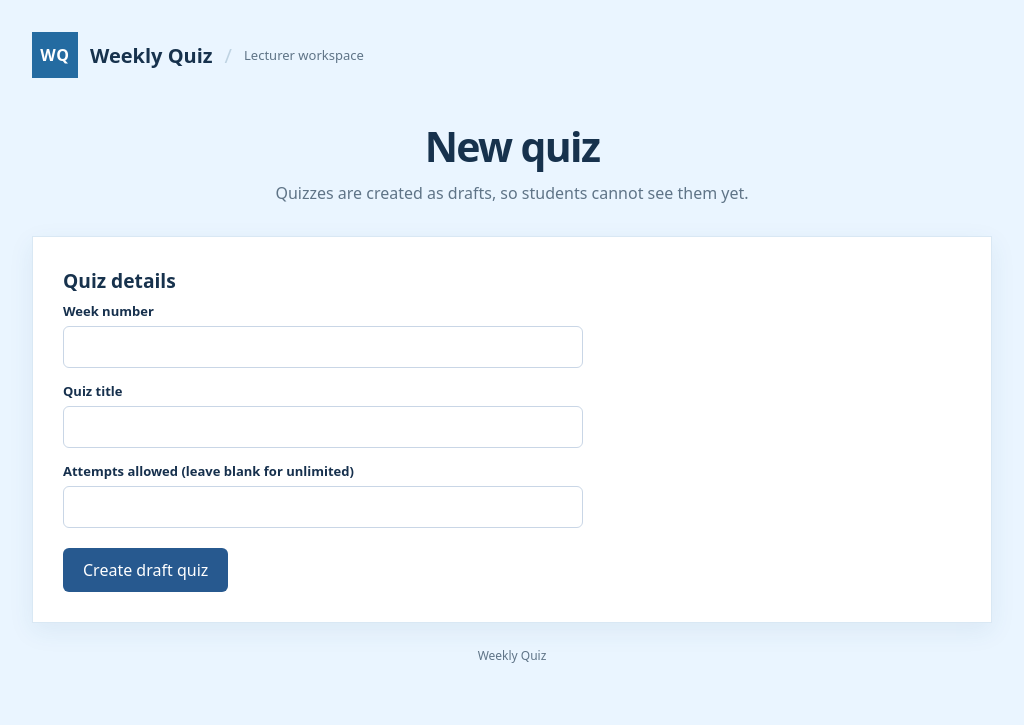
Scenario: adds a question with its answers and marks one correct
In the number field labelled "Week number": (323, 347) [63,326,583,368], type "3"
In the field labelled "Quiz title": (323, 427) [63,406,583,448], type "Week 3 — Test Design"
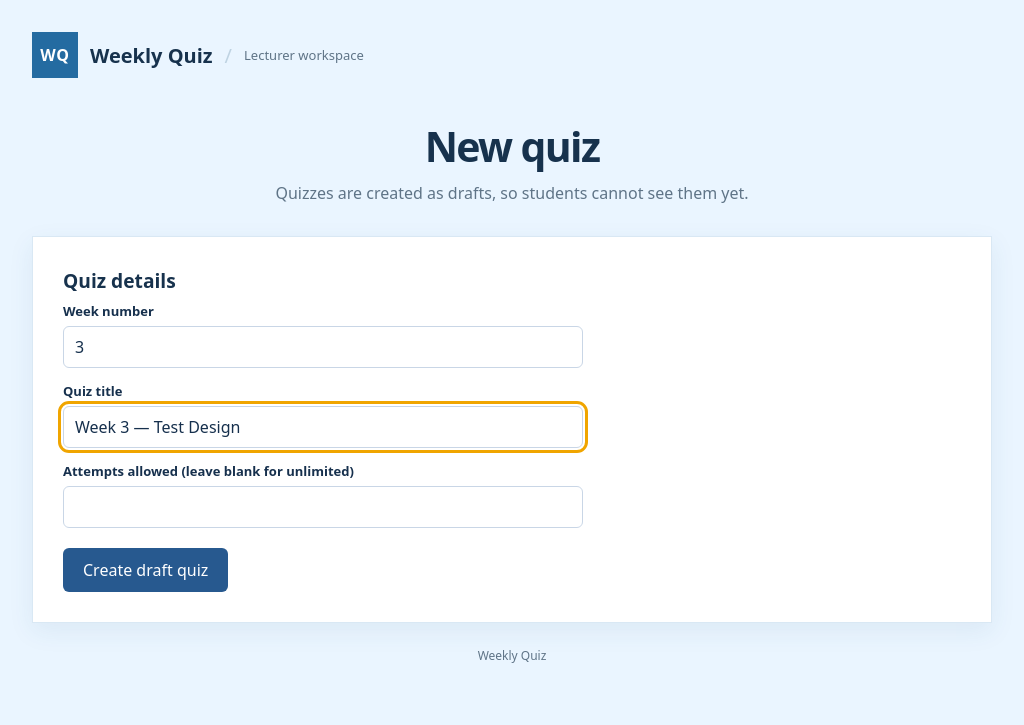
Click the button "Create draft quiz": (146, 570) [63,548,228,592]
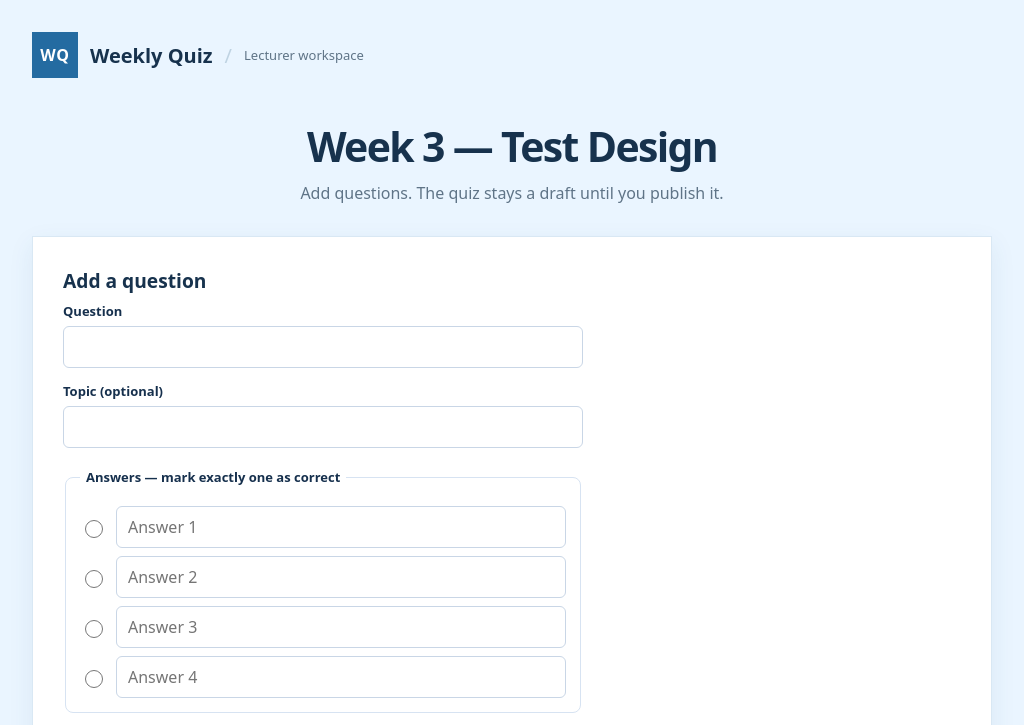
In the field labelled "Question": (323, 347) [63,326,583,368], type "Which of these is a black-box technique?"
In the field labelled "Answer 1": (341, 527) [116,506,566,548], type "Boundary value analysis"
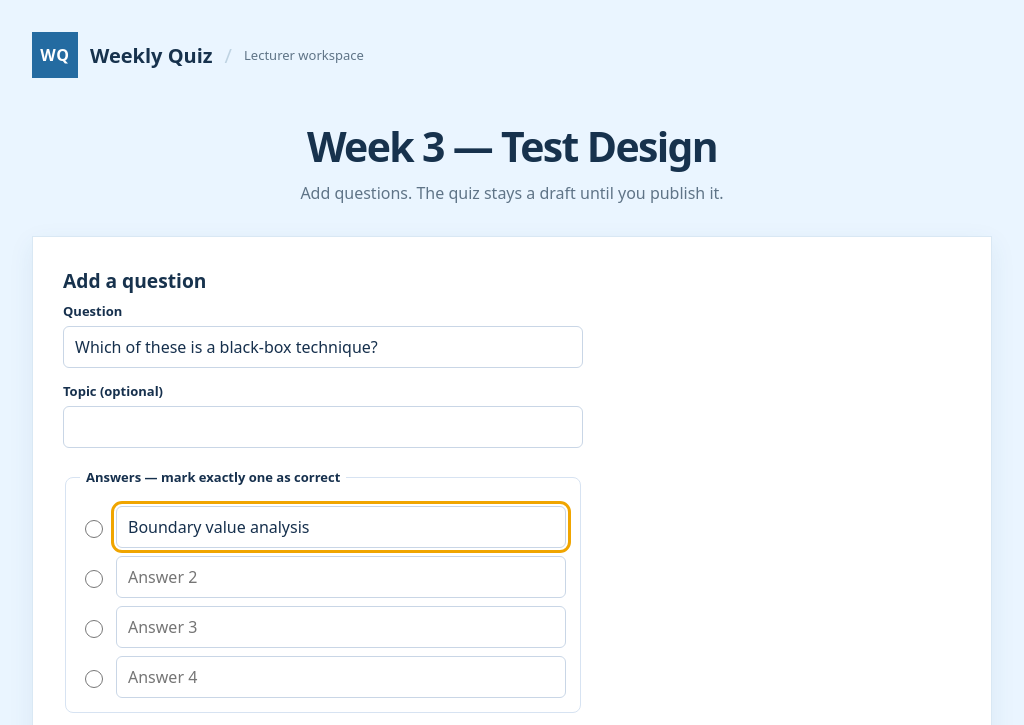
In the field labelled "Answer 2": (341, 577) [116,556,566,598], type "Statement coverage"
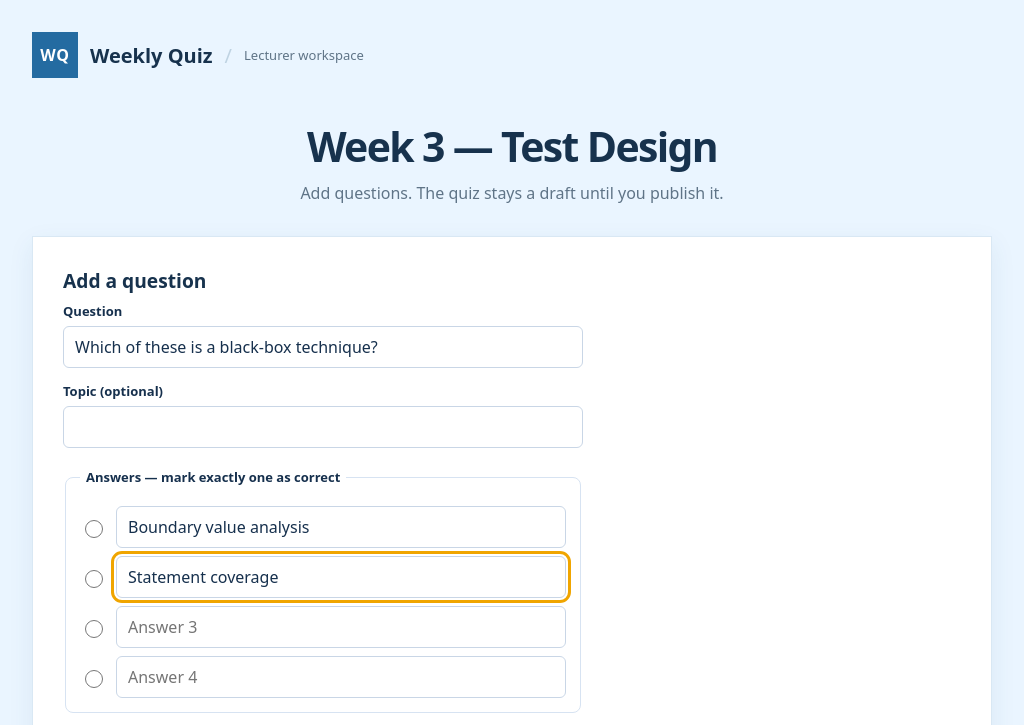
Click the radio button named "Answer 1 is correct": (94, 528) [85,520,103,538]
(page scrolled)
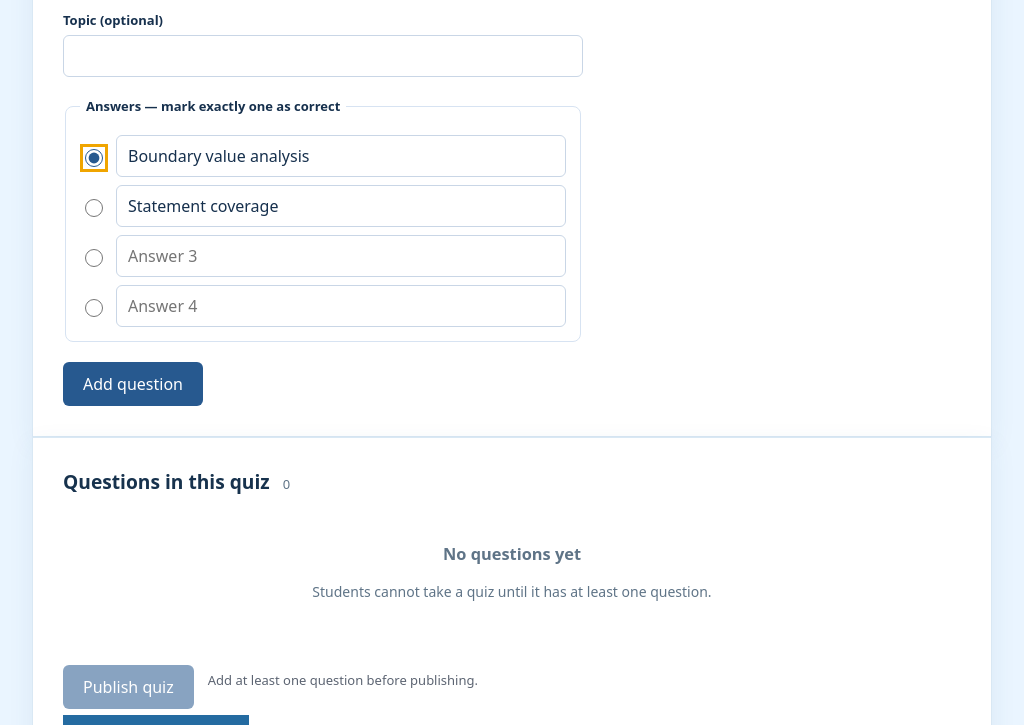
Click the button "Add question": (133, 384) [63,362,203,406]
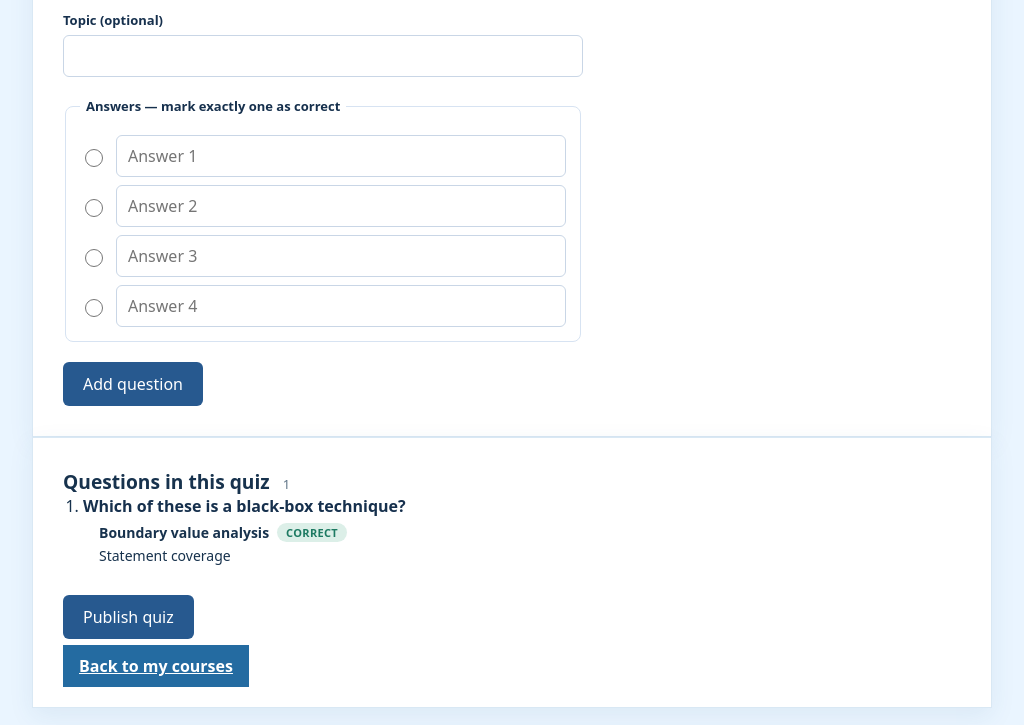
Expected: the text "Which of these is a black-box technique?" is shown, [83,495,406,517]
